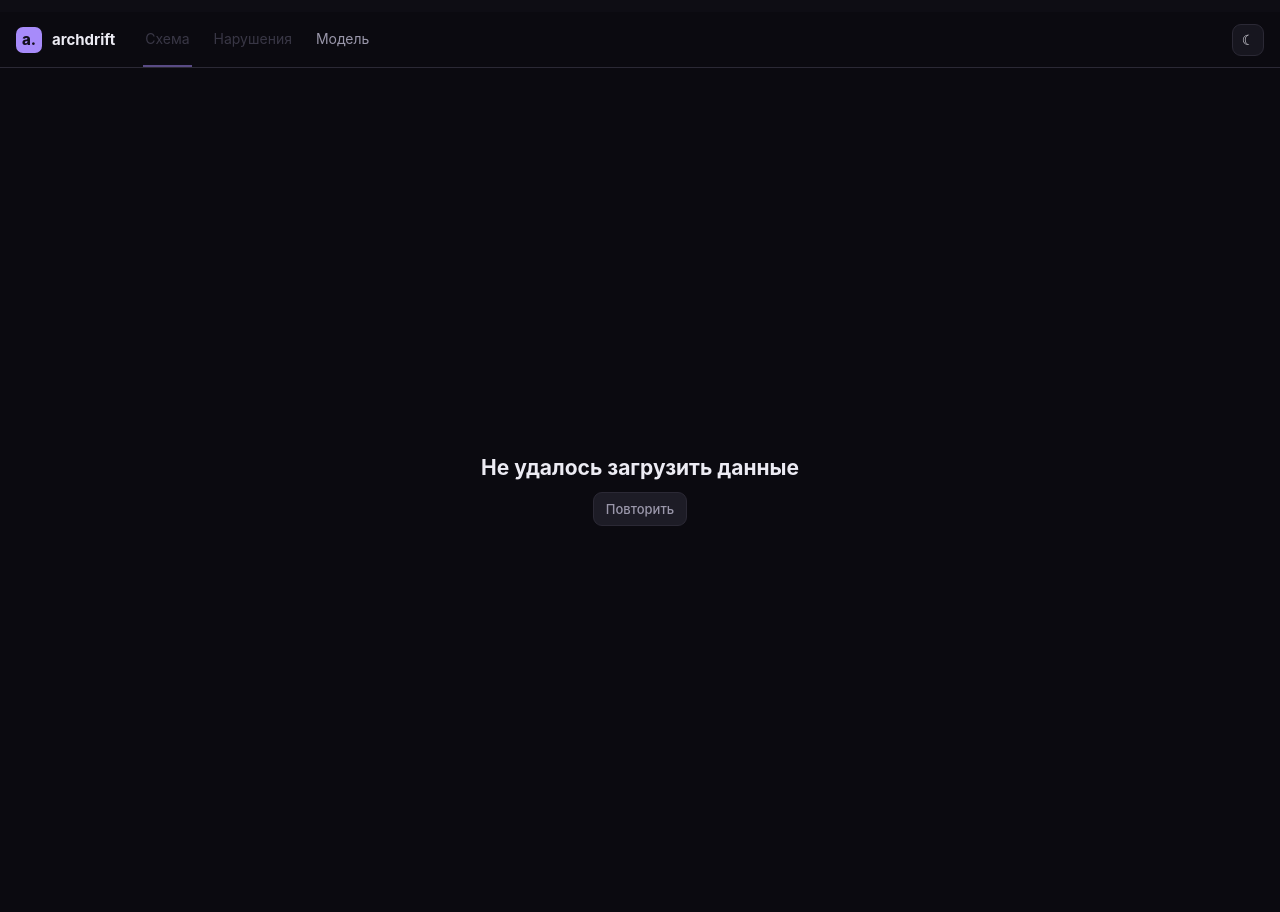
Scenario: new architecture flow › retries initial errors and aborts requests on unmount
expect the message shows "Не удалось загрузить данные": met, box [481,454,799,480]
Click the button "Повторить".
click(640, 508)  # box [593,492,687,526]
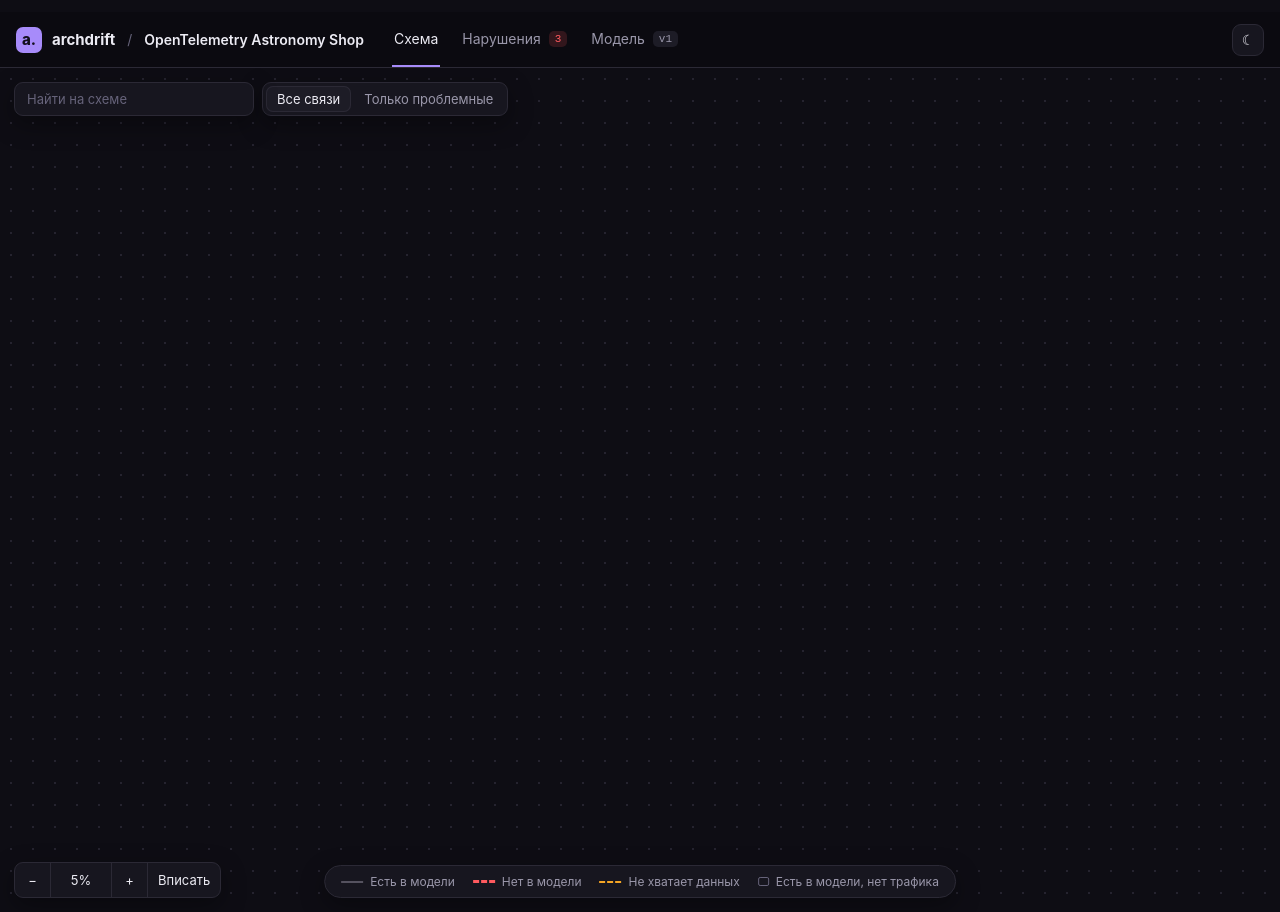
expect the picture is shown: met
